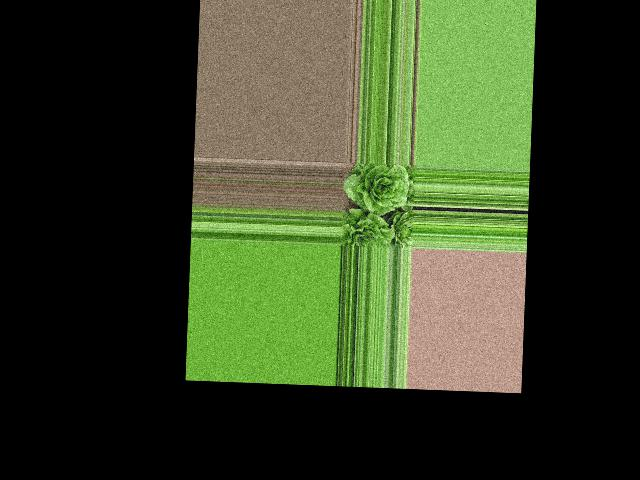lettuce: (342, 212, 395, 248)
